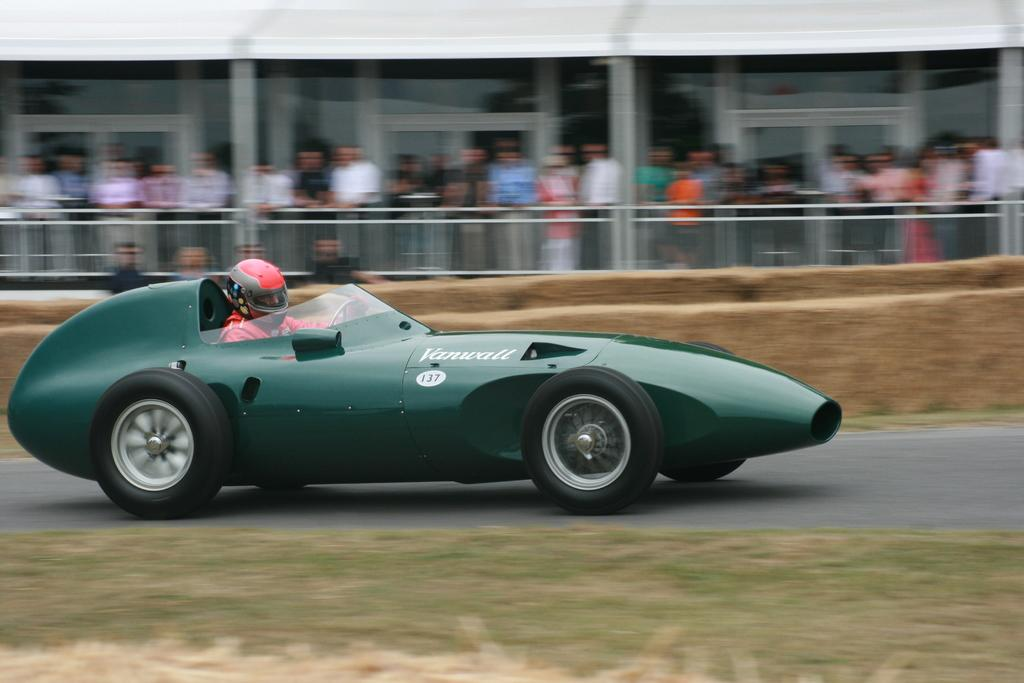helmet: (226, 258, 290, 327)
